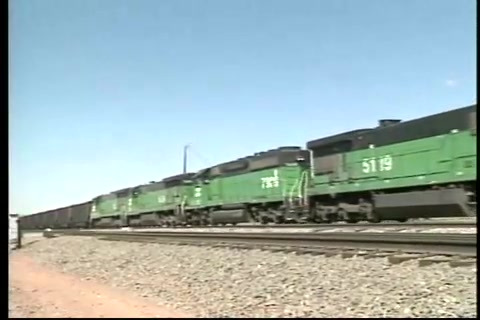train: (20, 103, 478, 232)
